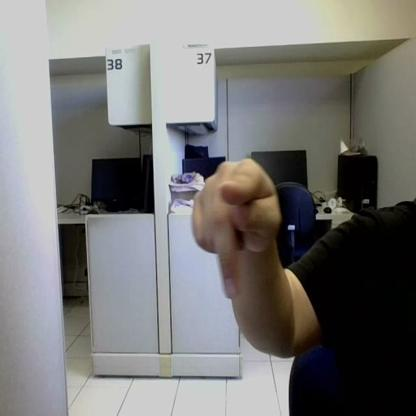P: (192, 159, 280, 298)
